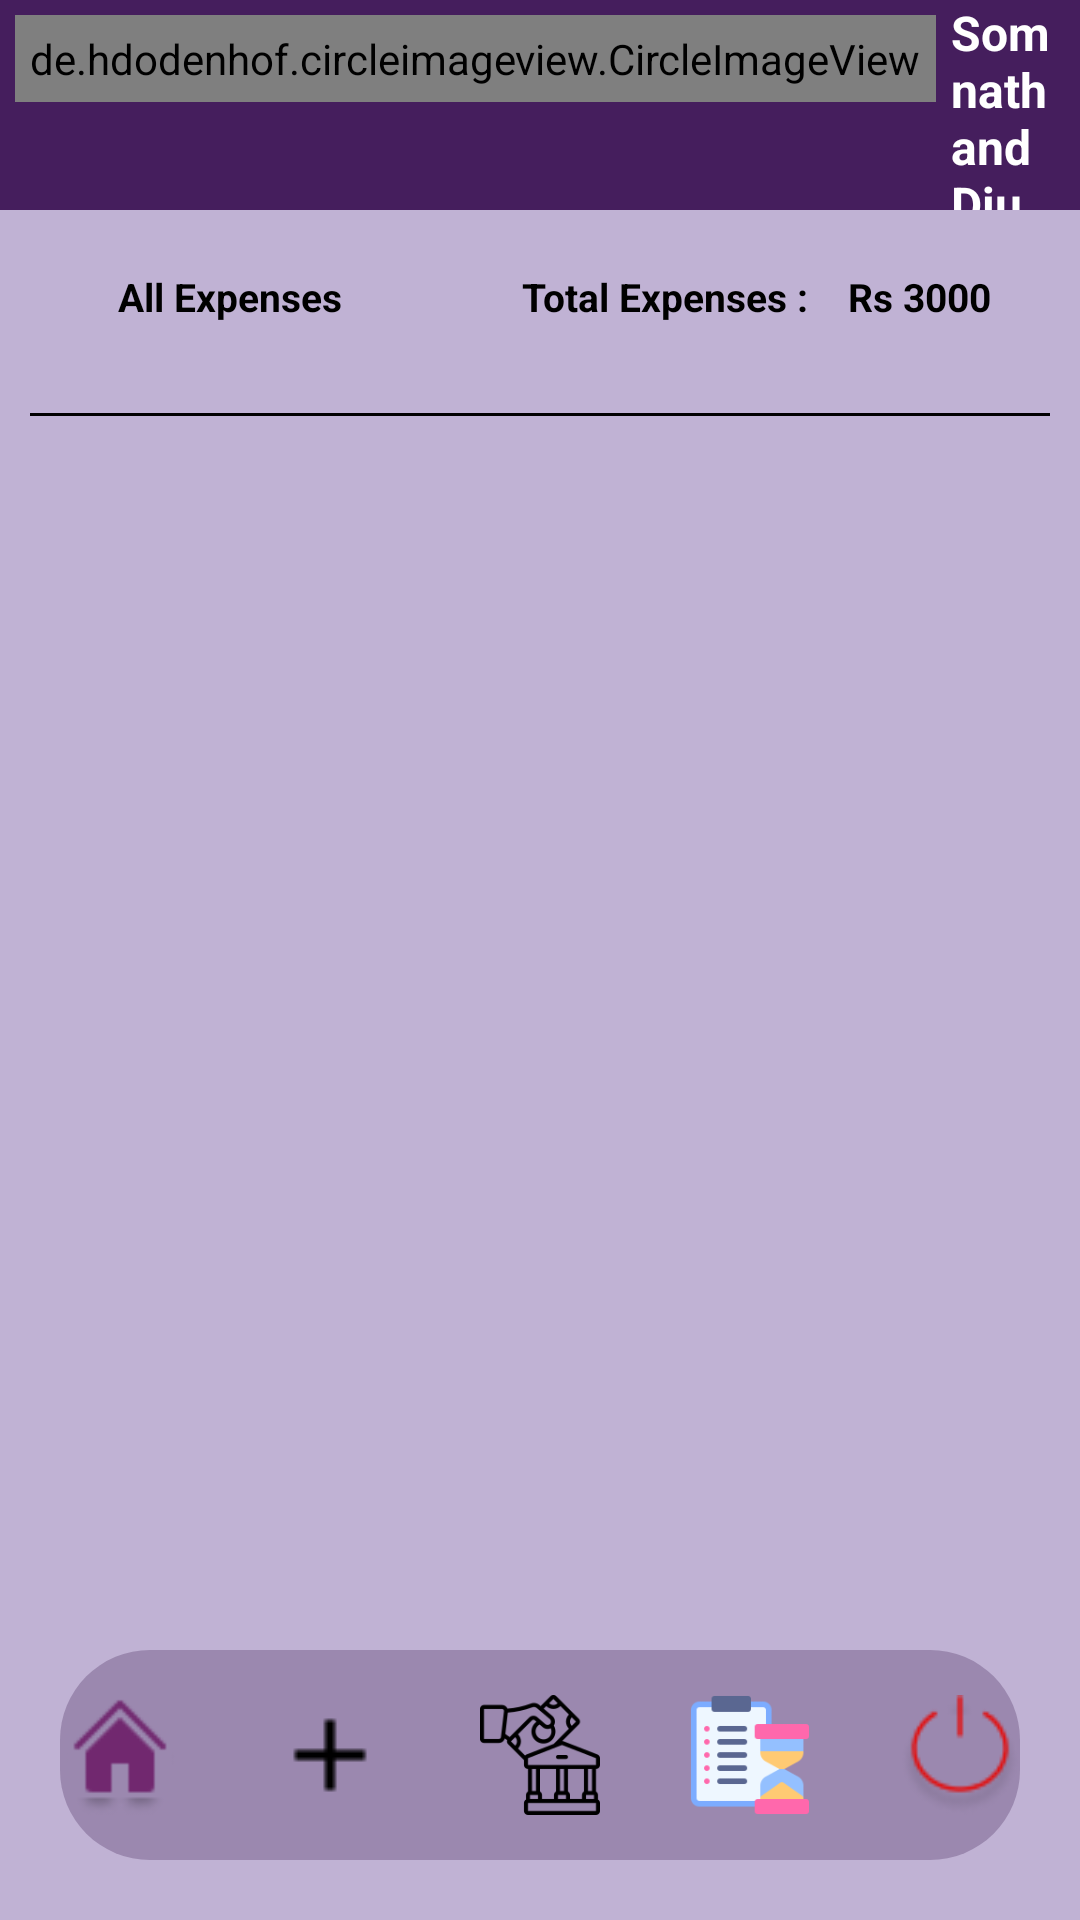

Named icons in this screenshot (1080px x 1920px) and their centers, point (x, y):
deposit: point (540, 1755)
home: point (120, 1751)
hourglass: point (750, 1755)
plus: point (330, 1755)
